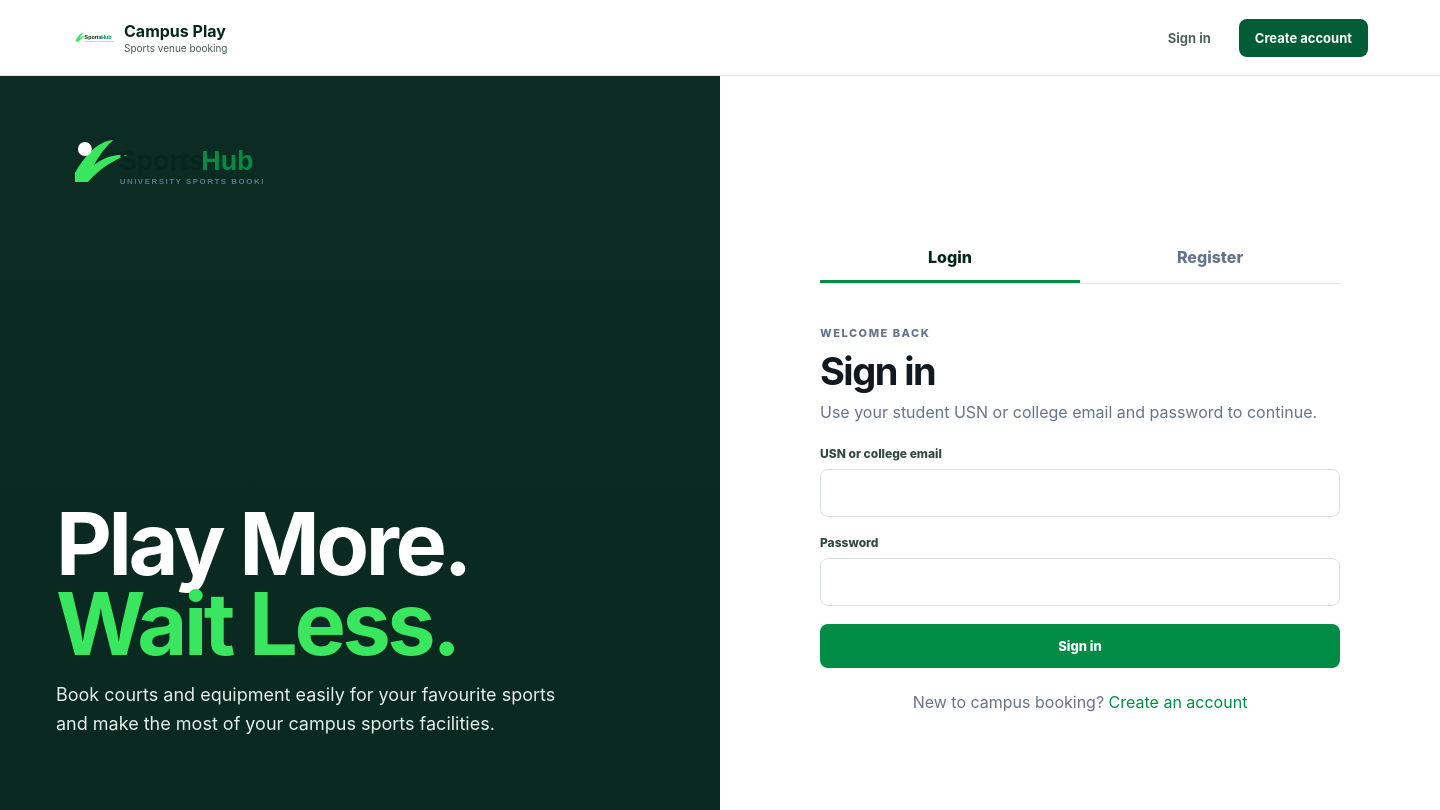
student frontend workflow › shows network errors on login without hiding the failure
In the field labelled "USN or college email": (1080, 493) [820,469,1340,517], type "1AB23CS001"
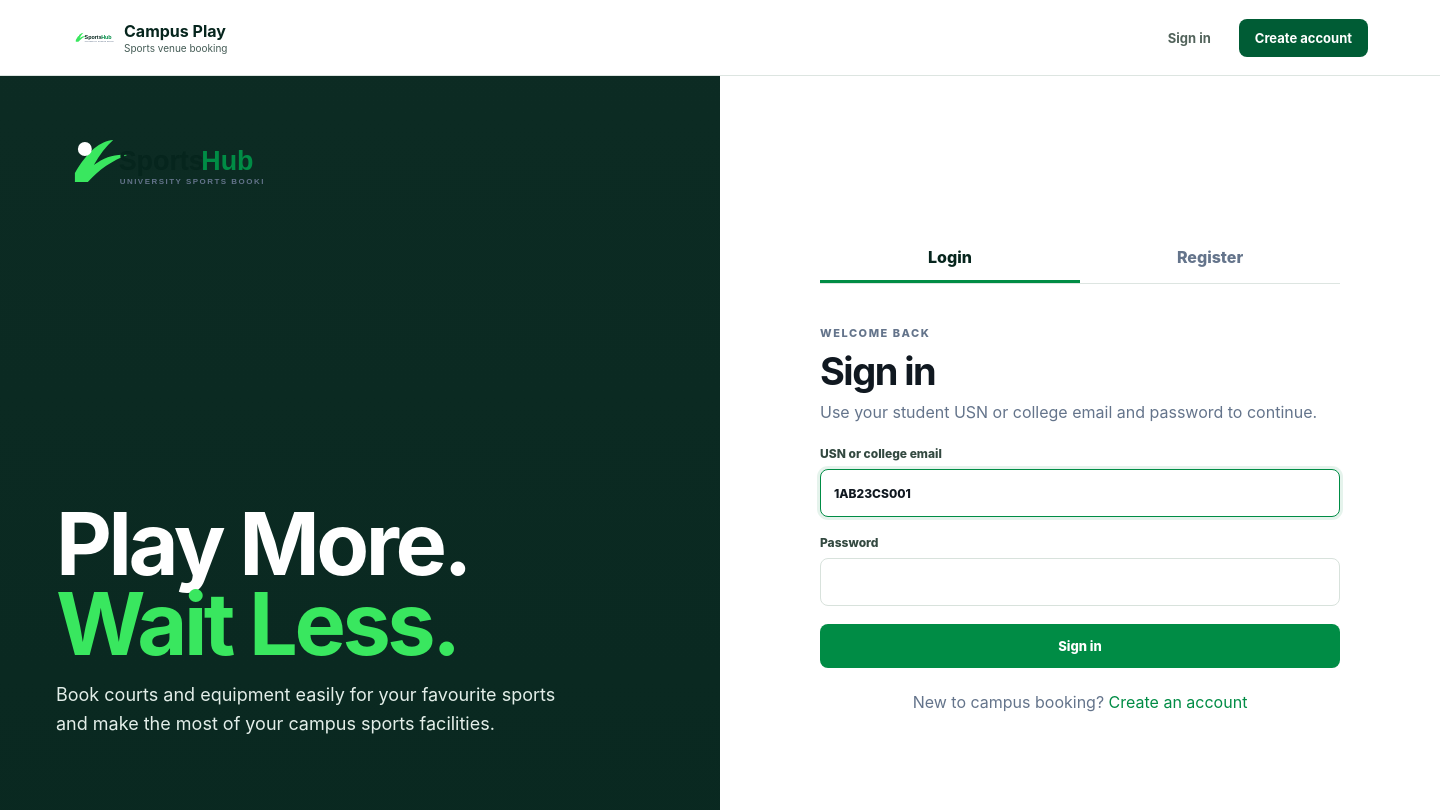
In the password field labelled "Password": (1080, 582) [820,558,1340,606], type "strong-password"
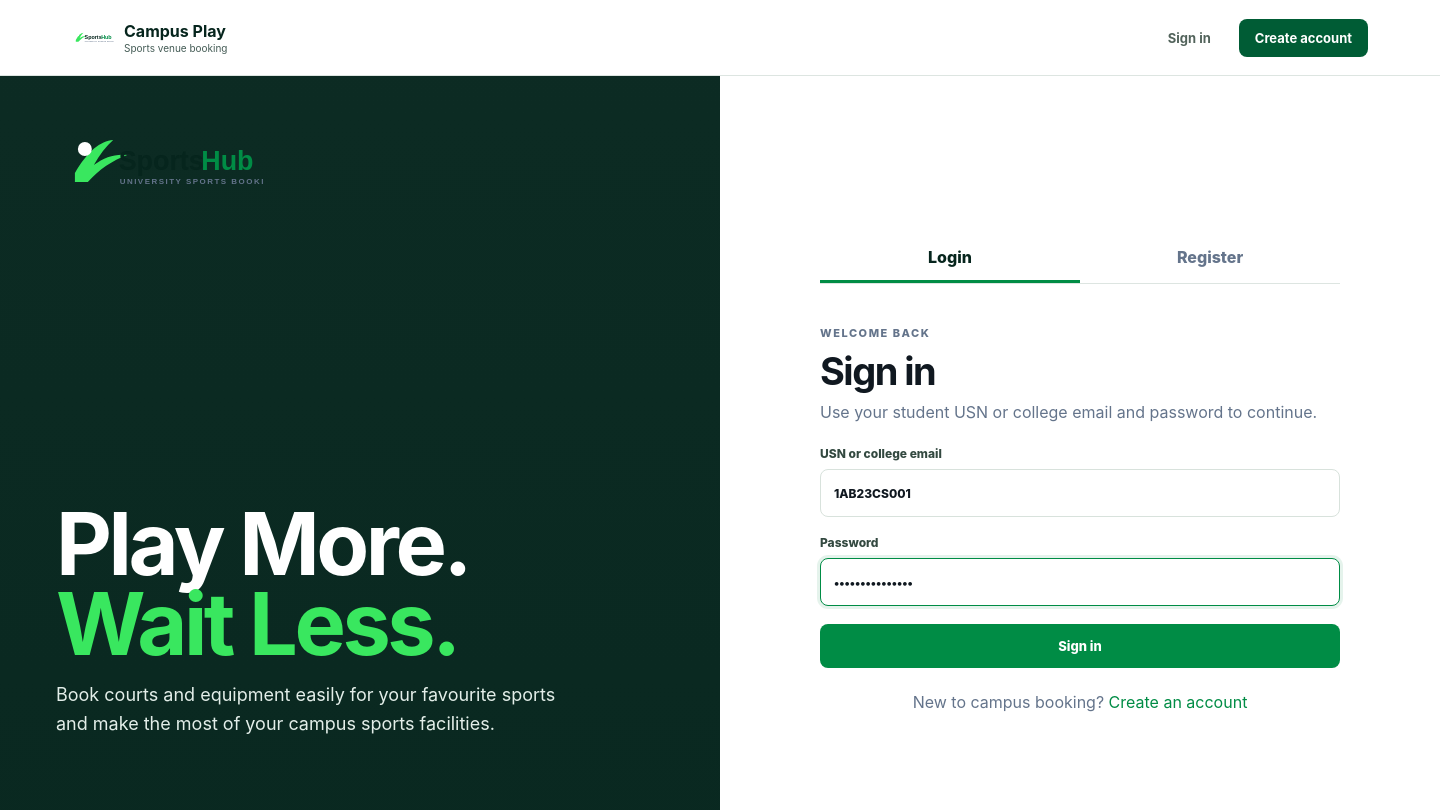
Click the button "Sign in": (1080, 646) [820,624,1340,668]
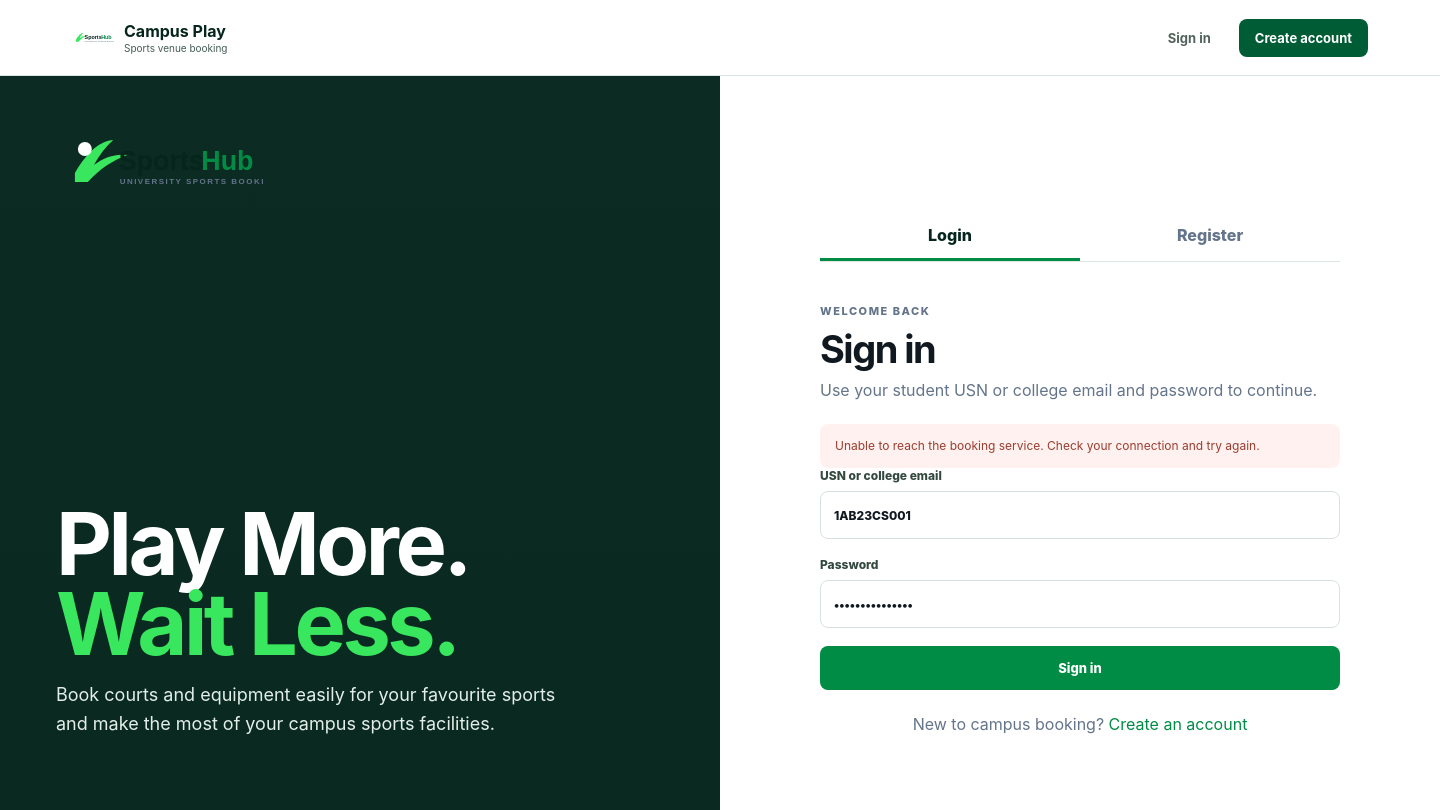
expect the message shows "Unable to reach the booking service": met, box [835,438,1260,453]
